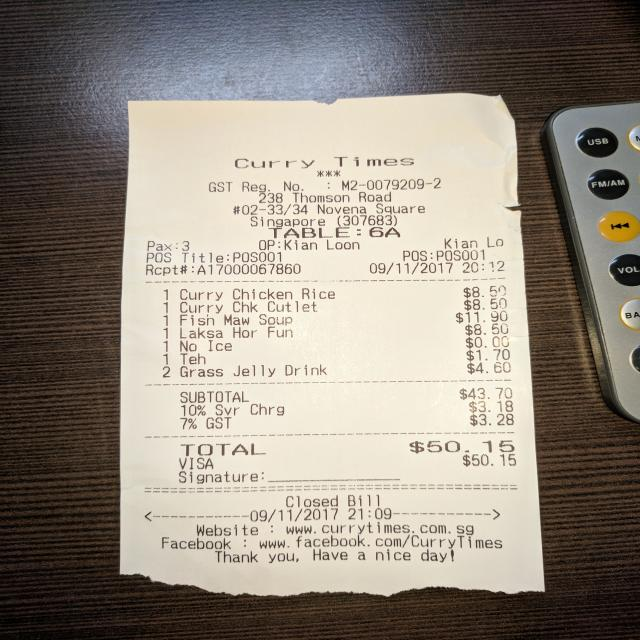bill_region: (142, 283, 520, 458)
